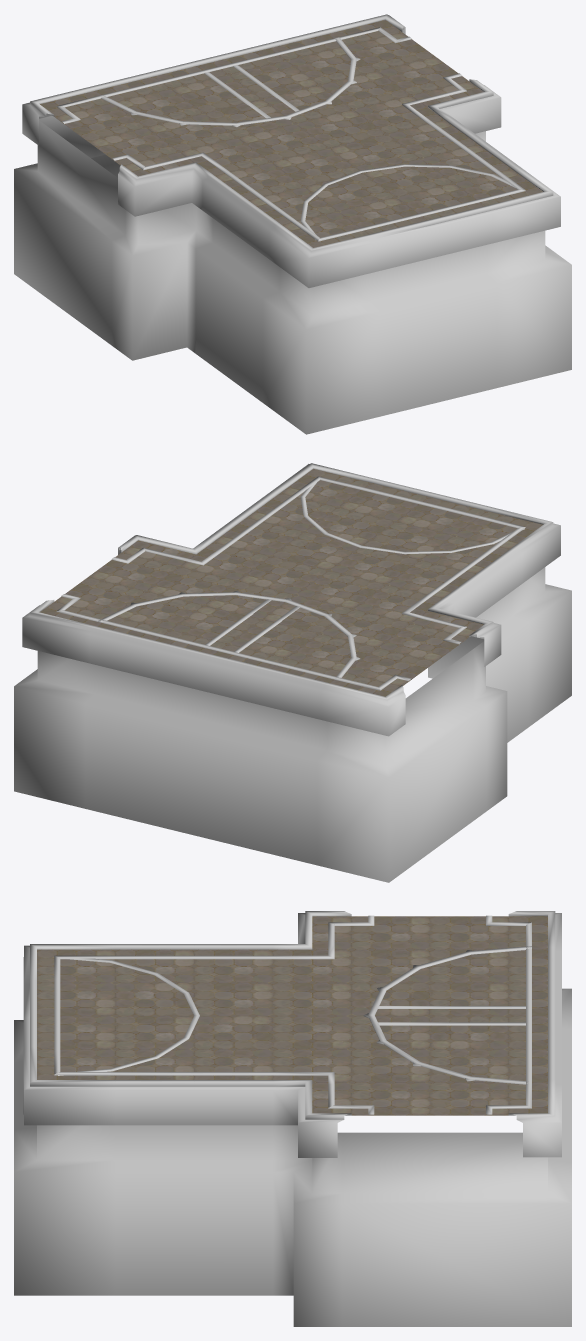
The model's file is t_pngtai05.FBX.
3 views of the same model, one above another, from view 1: azimuth 30°, elevation 25°; view 2: azimuth 150°, elevation 25°; view 3: azimuth 270°, elevation 25° (orthographic). The views are drawn at different scales.
Parts seen in each view (by area): view 1: t_pngtai05_qiang, t_pngtai05_dimian; view 2: t_pngtai05_qiang, t_pngtai05_dimian; view 3: t_pngtai05_qiang, t_pngtai05_dimian.
Boxes of the visible parts, left/top/right/bottom form: t_pngtai05_qiang: left=14, top=14, right=571, bottom=434; t_pngtai05_dimian: left=40, top=20, right=542, bottom=247; t_pngtai05_qiang: left=14, top=463, right=571, bottom=882; t_pngtai05_dimian: left=40, top=469, right=542, bottom=696; t_pngtai05_qiang: left=14, top=911, right=571, bottom=1326; t_pngtai05_dimian: left=37, top=916, right=547, bottom=1115.
Bounding box in the file's own units: 3903 × 1747 × 4285.
